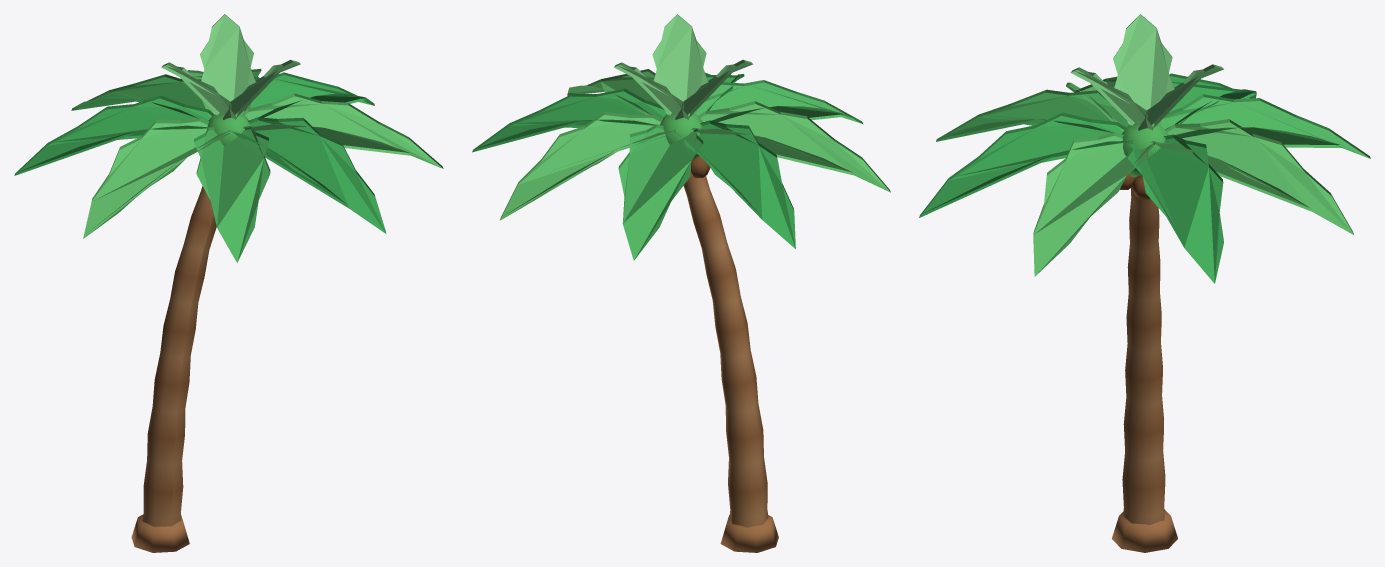
File: palmeira.glb
The picture shows the model from 3 angles, left to right: view 1: azimuth 30°, elevation 25°; view 2: azimuth 150°, elevation 25°; view 3: azimuth 270°, elevation 25°; orthographic projection. The views are drawn at different scales.
Parts seen in each view (by area): view 1: palmeira_corpo; view 2: palmeira_corpo; view 3: palmeira_corpo.
Boxes of the visible parts, x1=… form: palmeira_corpo: x1=14, y1=14, x2=443, y2=552; palmeira_corpo: x1=472, y1=14, x2=890, y2=552; palmeira_corpo: x1=919, y1=14, x2=1370, y2=552.
Size of the model in its own units: 6.25 by 8.01 by 6.25.
